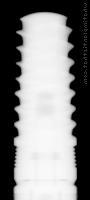MIS: (14, 12, 77, 193)
